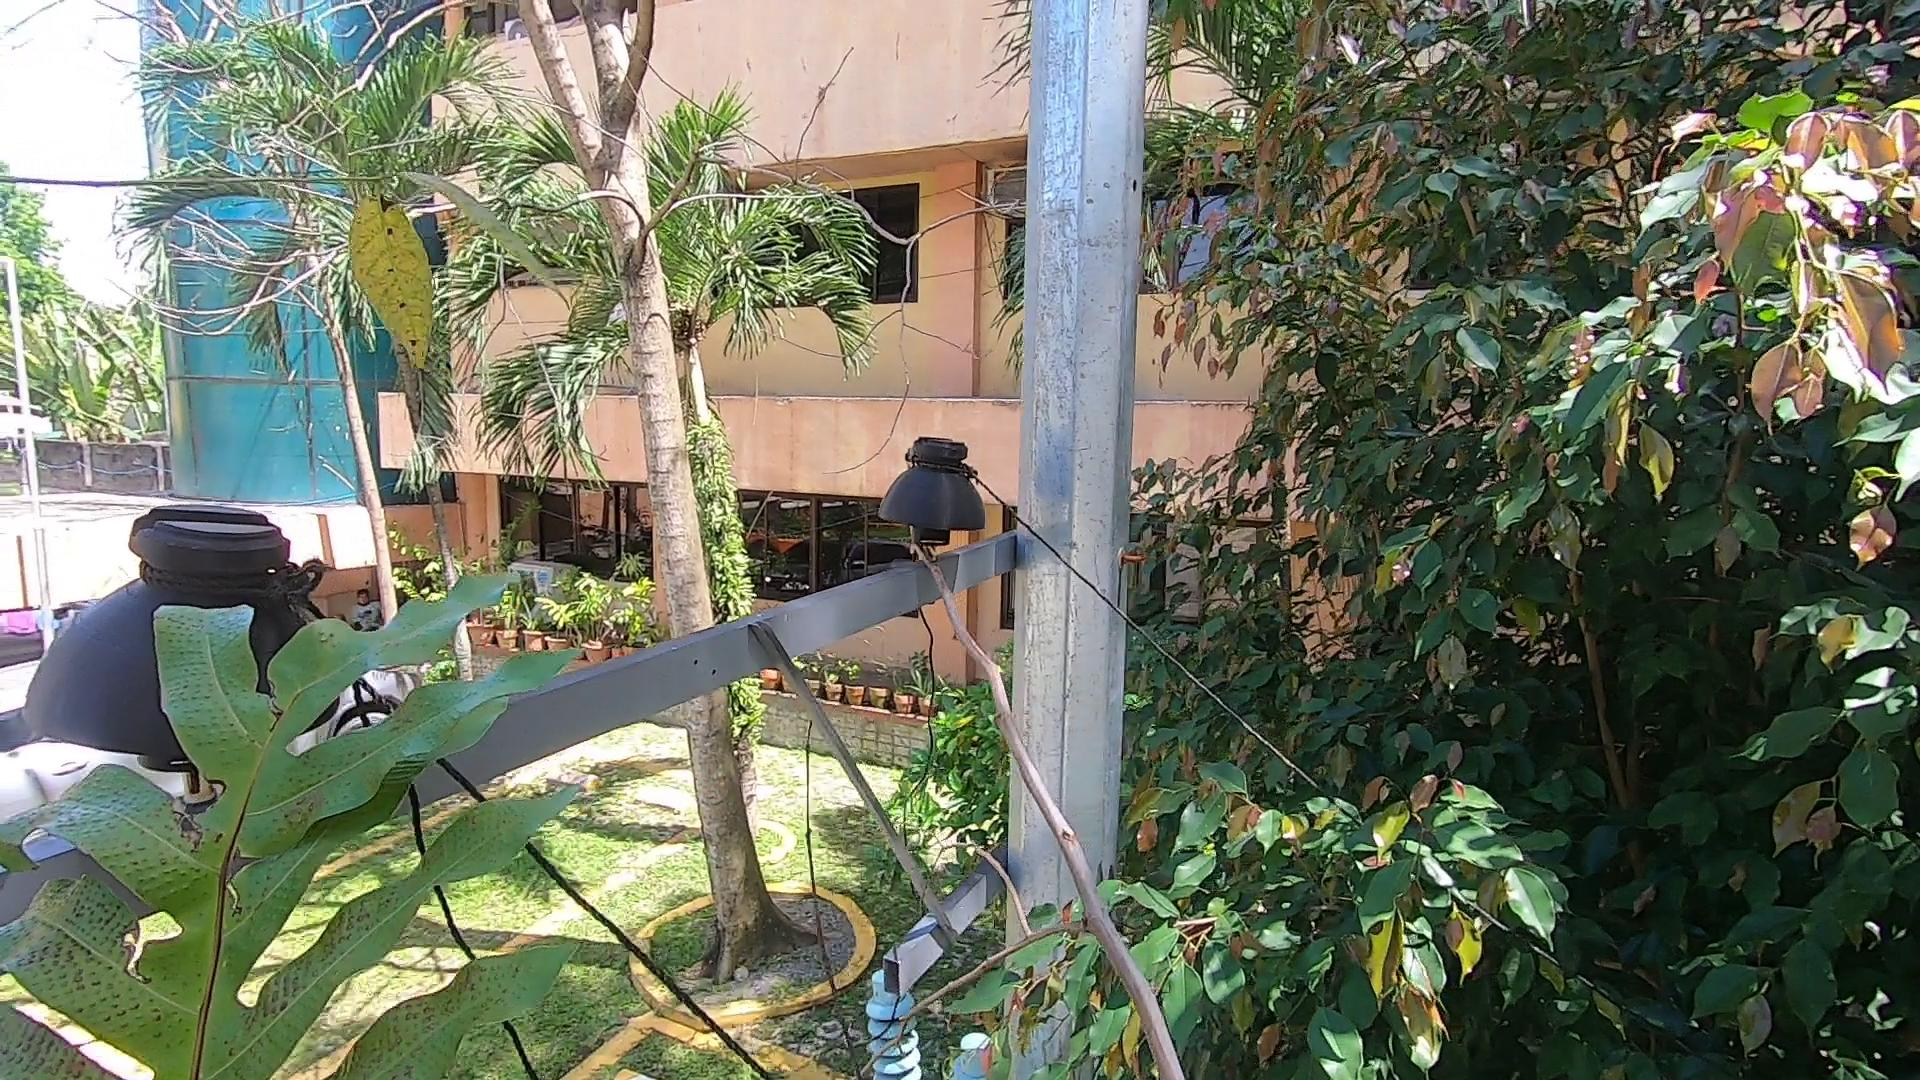branch with leaves: (963, 905, 1196, 1080)
leaf: (4, 564, 568, 1080)
tree branch: (895, 527, 1240, 1080)
